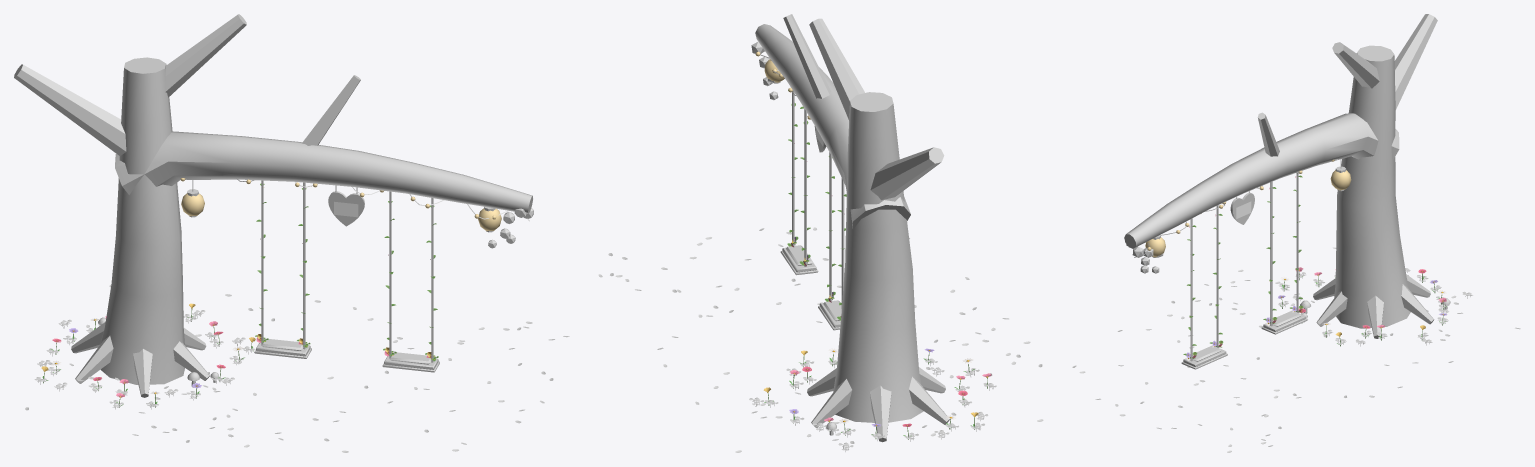
File: zon_lake_swings.glb
3 renders of one model, left to right at view 1: azimuth 30°, elevation 25°; view 2: azimuth 150°, elevation 25°; view 3: azimuth 270°, elevation 25°, orthographic. The views are drawn at different scales.
Visible parts, largest first — view 1: SM_zon_lake_swings_kit_lake_x0_zm1_LOD0, ANIM_prp_lake_swing_lilac_arm__0, ANIM_prp_lake_swing_pink_arm__0, SM_zon_lake_swings_glow_vc_x0_zm1, SM_zon_lake_swings_vc_palette_x0_zm1; view 2: SM_zon_lake_swings_kit_lake_x0_zm1_LOD0, ANIM_prp_lake_swing_lilac_arm__0, ANIM_prp_lake_swing_pink_arm__0, SM_zon_lake_swings_vc_palette_x0_zm1; view 3: SM_zon_lake_swings_kit_lake_x0_zm1_LOD0, ANIM_prp_lake_swing_lilac_arm__0, ANIM_prp_lake_swing_pink_arm__0, SM_zon_lake_swings_glow_vc_x0_zm1, SM_zon_lake_swings_vc_palette_x0_zm1.
Part boxes in pixels (x1,y1,x2,y2): SM_zon_lake_swings_kit_lake_x0_zm1_LOD0: (14, 14, 569, 452); ANIM_prp_lake_swing_lilac_arm__0: (382, 191, 439, 372); ANIM_prp_lake_swing_pink_arm__0: (254, 180, 311, 358); SM_zon_lake_swings_glow_vc_x0_zm1: (180, 178, 501, 231); SM_zon_lake_swings_vc_palette_x0_zm1: (41, 303, 255, 407); SM_zon_lake_swings_kit_lake_x0_zm1_LOD0: (598, 14, 1043, 452); ANIM_prp_lake_swing_lilac_arm__0: (780, 91, 818, 275); ANIM_prp_lake_swing_pink_arm__0: (818, 152, 844, 330); SM_zon_lake_swings_vc_palette_x0_zm1: (763, 348, 991, 439); SM_zon_lake_swings_kit_lake_x0_zm1_LOD0: (1072, 14, 1520, 452); ANIM_prp_lake_swing_lilac_arm__0: (1181, 205, 1227, 369); ANIM_prp_lake_swing_pink_arm__0: (1261, 172, 1307, 334); SM_zon_lake_swings_glow_vc_x0_zm1: (1145, 159, 1351, 257); SM_zon_lake_swings_vc_palette_x0_zm1: (1278, 267, 1447, 346).
Bounding box in the file's own units: 9.3 × 6.41 × 8.57.
